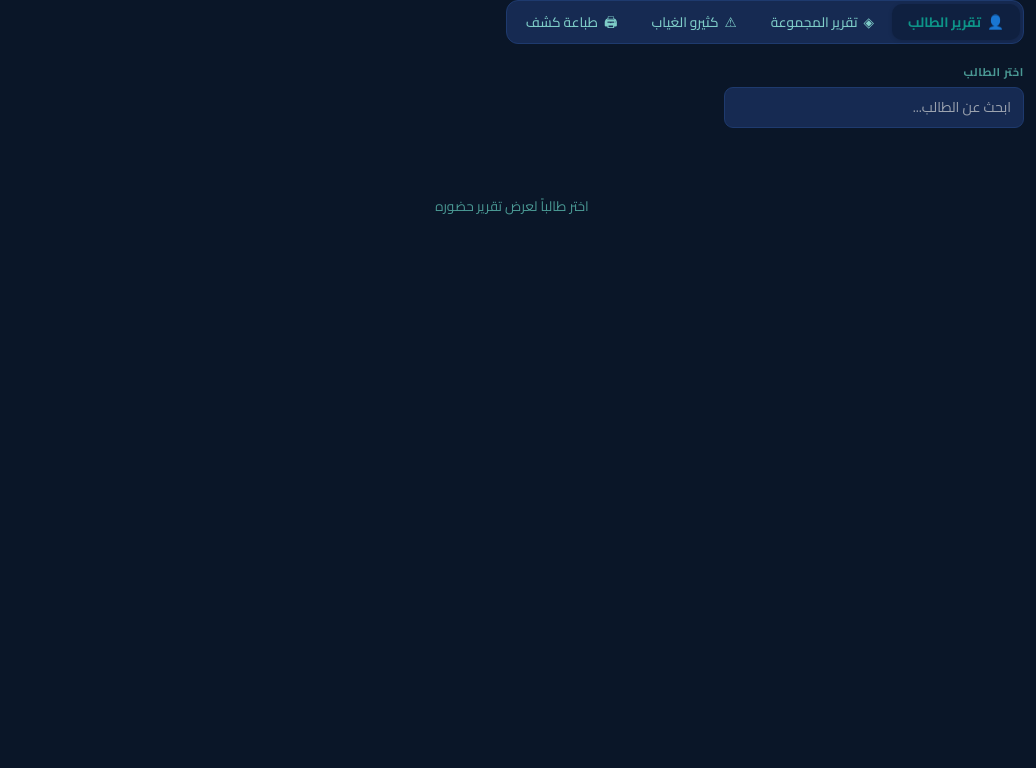
Test: AttendanceReports — "كثيرو الغياب" tab uses the scoped/aggregate GET (C4 Attendance migration Phase 2) › shows a clear error toast (not a blank/stale list) when the fetch fails
Click the button "⚠ كثيرو الغياب": {"x": 694, "y": 22} [636, 4, 753, 40]
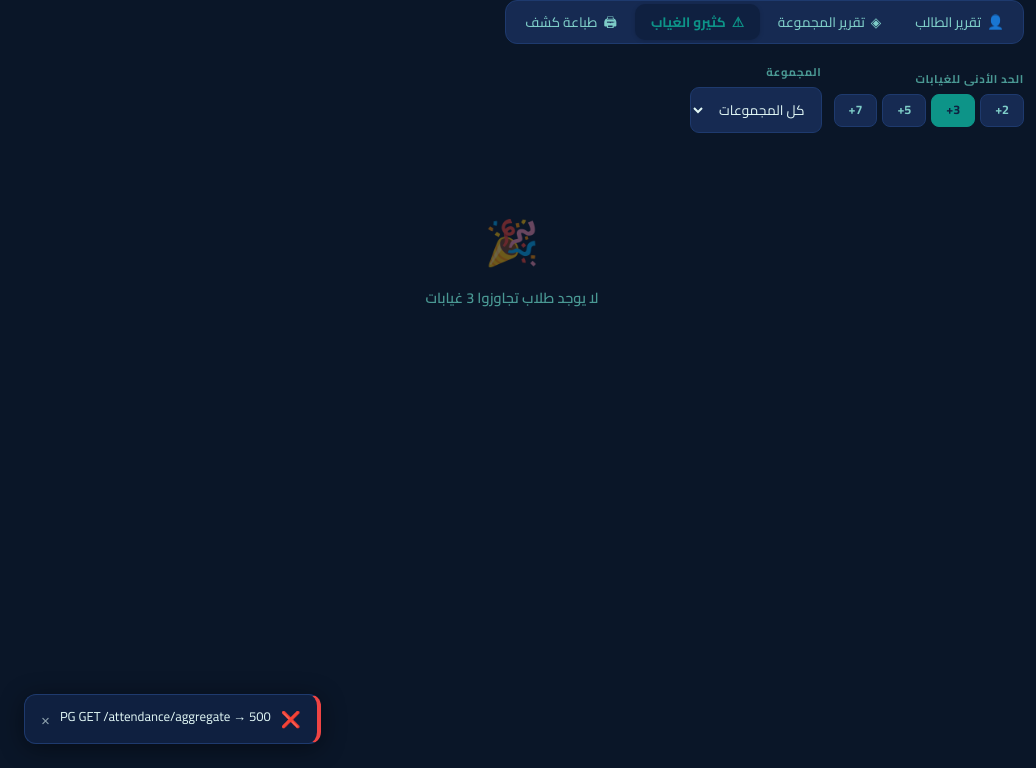
Expected: the text "PG GET /attendance/aggregate → 500" is shown, [60, 707, 271, 726]
